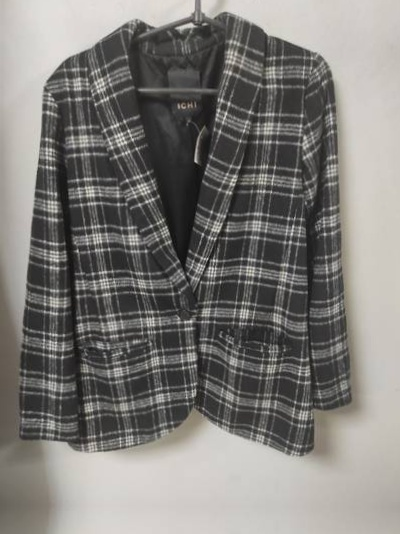Blazer: (8, 19, 386, 468)
